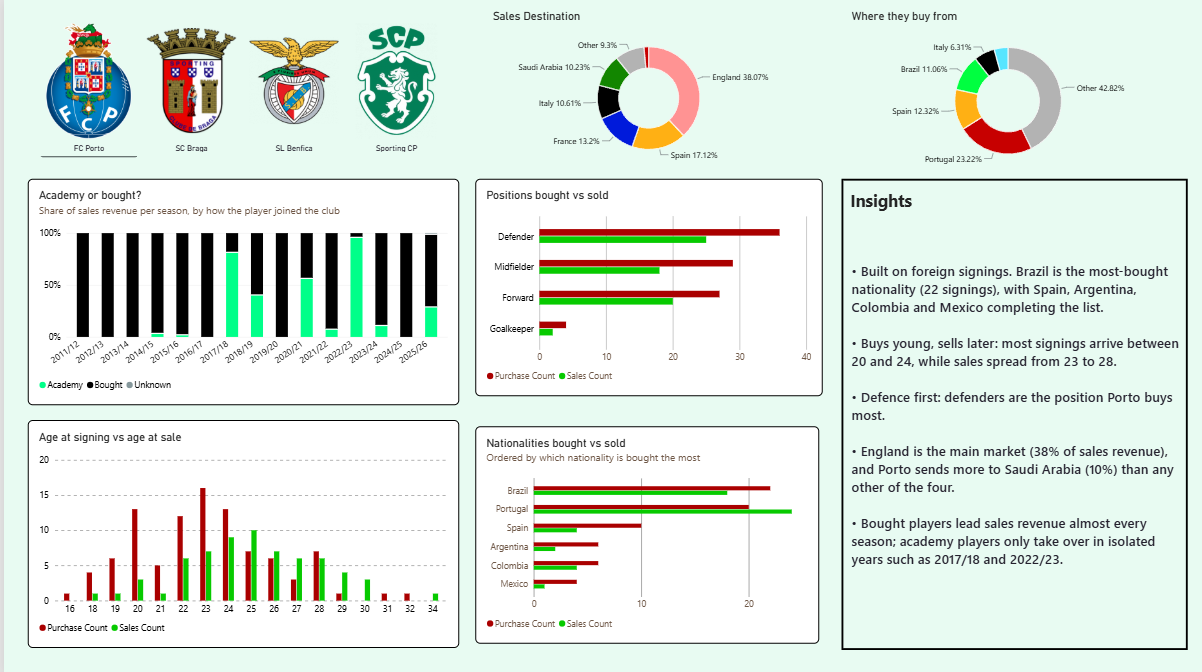

The page's visual inventory and layout, read from the dashboard file:
{"tool":"powerbi","page":{"name":"Profile","canvas":[1920,1080],"ordinal":2},"visuals":[{"type":"advancedSlicerVisual","title":"Club","fields":{"Values":["clubs.name"]},"box":[37.5,35,690.7,216.3],"z":0},{"type":"hundredPercentStackedColumnChart","title":"Academy or bought?","fields":{"Category":["Dates.Season"],"Series":["transfers.sale_origin"],"Y":["_Measures.Sales Revenue"]},"box":[37.5,285,690,362.5],"z":1000},{"type":"clusteredColumnChart","title":"Age at signing vs age at sale","fields":{"Category":["transfers.age_at_transfer"],"Y":["_Measures.Purchase Count","_Measures.Sales Count"]},"box":[37.5,672.5,690,365],"z":2000},{"type":"clusteredBarChart","title":"Positions bought vs sold","fields":{"Category":["players.position"],"Y":["_Measures.Purchase Count","_Measures.Sales Count"]},"box":[754,286,556,348],"z":3000},{"type":"clusteredBarChart","title":"Nationalities bought vs sold","fields":{"Category":["players.country_of_citizenship"],"Y":["_Measures.Purchase Count","_Measures.Sales Count"]},"box":[754,682,550,348],"z":4000},{"type":"donutChart","title":"Sales Destination","fields":{"Category":["transfers.sales_destination"],"Y":["_Measures.Sales Revenue"]},"box":[766.7,0,530.9,278.2],"z":5000},{"type":"donutChart","title":"Where they buy from","fields":{"Category":["transfers.purchase_origin"],"Y":["_Measures.Money Spent"]},"box":[1340,0,533.3,286.7],"z":6000},{"type":"shape","box":[1340,286,554,754],"z":7000},{"type":"textbox","box":[1354,302,110,48],"z":7001},{"type":"cardVisual","fields":{"Data":["_Measures.Insights Profile"]},"box":[1340,286,562,754],"z":7002}]}

Visuals, with their boxes in screenshot pixels (x1, y1, x2, y2), scaled from the page's 1920x1080 canvas onto the 1202x672 screenshot:
"Club" advancedSlicerVisual: 23,22,456,156
"Academy or bought?" hundredPercentStackedColumnChart: 23,177,455,403
"Age at signing vs age at sale" clusteredColumnChart: 23,418,455,646
"Positions bought vs sold" clusteredBarChart: 472,178,820,394
"Nationalities bought vs sold" clusteredBarChart: 472,424,816,641
"Sales Destination" donutChart: 480,0,812,173
"Where they buy from" donutChart: 839,0,1173,178
shape: 839,178,1186,647
textbox: 848,188,917,218
cardVisual - _Measures.Insights Profile: 839,178,1191,647
